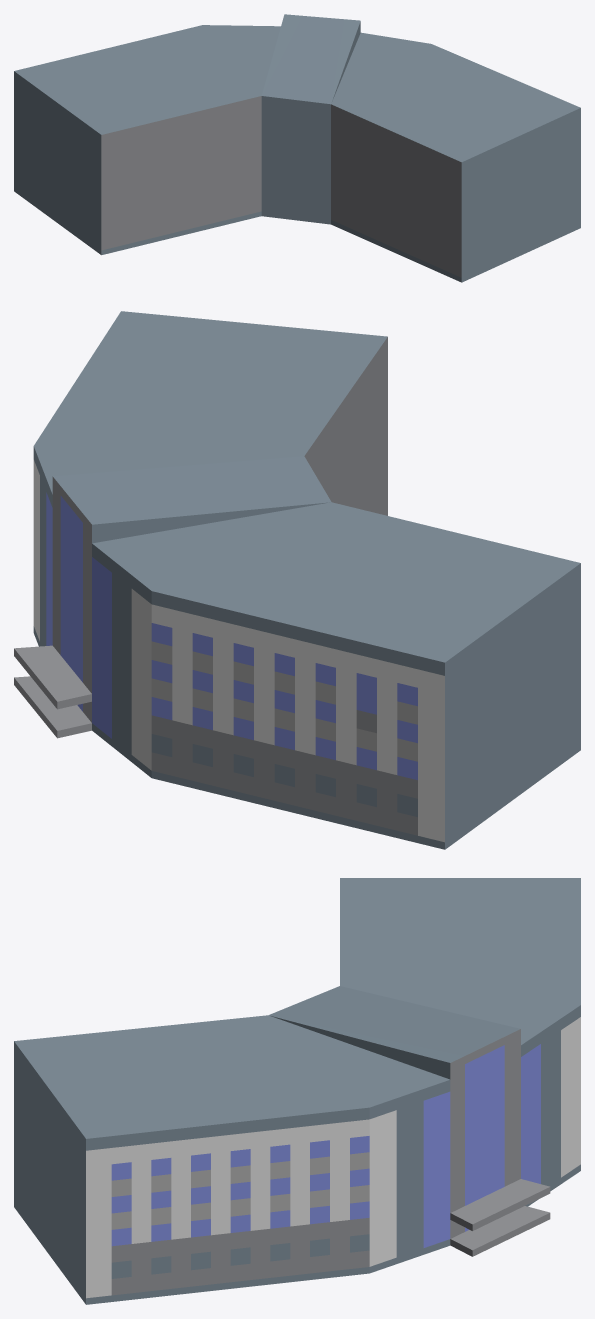
The model's file is Прокуратура.glb.
3 views of the same model, one above another, from view 1: azimuth 30°, elevation 25°; view 2: azimuth 150°, elevation 25°; view 3: azimuth 270°, elevation 25° (orthographic). The views are drawn at different scales.
Parts seen in each view (by area): view 1: 87975313; view 2: 87975313; view 3: 87975313.
Boxes of the visible parts, <box> form: 87975313: <box>14,14,580,282</box>; 87975313: <box>14,311,580,849</box>; 87975313: <box>14,878,580,1304</box>.
Size of the model in its own units: 67.44 by 22 by 61.94.
